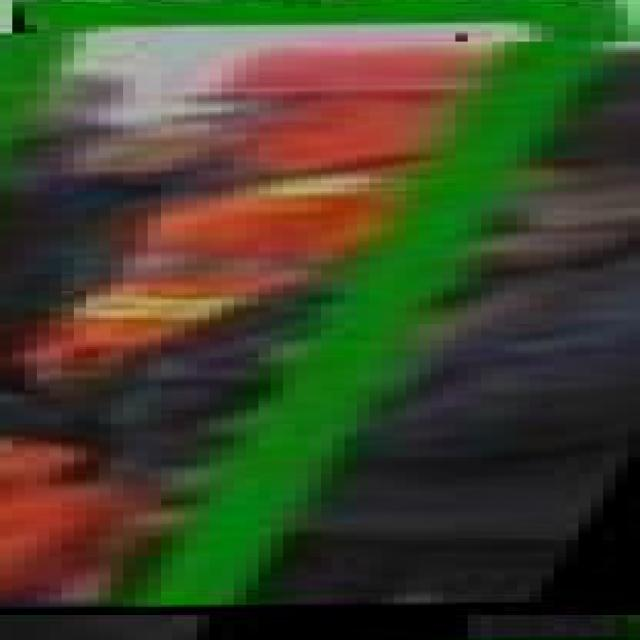nofire: (12, 0, 640, 640)
